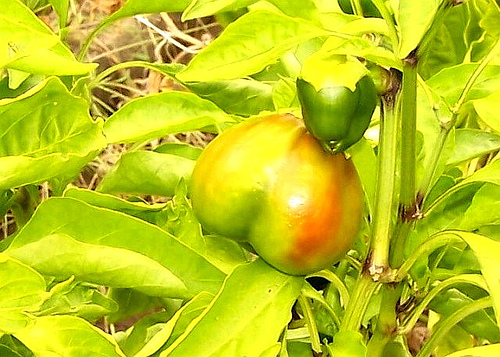capsicum: (185, 112, 365, 278)
